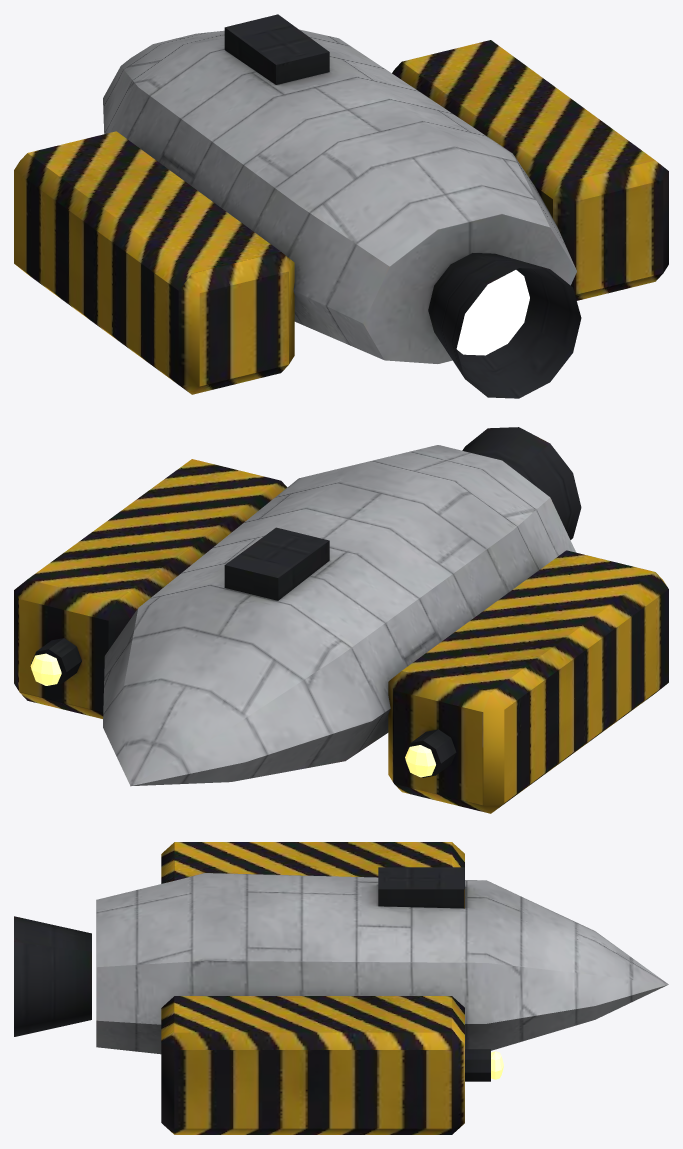
File: drone.glb
3 renders of one model, top to bottom at view 1: azimuth 30°, elevation 25°; view 2: azimuth 150°, elevation 25°; view 3: azimuth 270°, elevation 25°, orthographic. The views are drawn at different scales.
Visible parts, largest first — view 1: DroneHull, EngineGlow; view 2: DroneHull, LampLens, LampLens.001; view 3: DroneHull.
Boxes of the visible parts, x1,y1,x2,y2 form: DroneHull: [14, 14, 668, 398]; EngineGlow: [456, 270, 529, 355]; DroneHull: [14, 427, 668, 813]; LampLens: [30, 653, 61, 685]; LampLens.001: [405, 745, 435, 777]; DroneHull: [14, 842, 668, 1134].
Bounding box in the file's own units: 1.1 × 0.41 × 1.51.
Materials: 3 (1 with a texture image).
